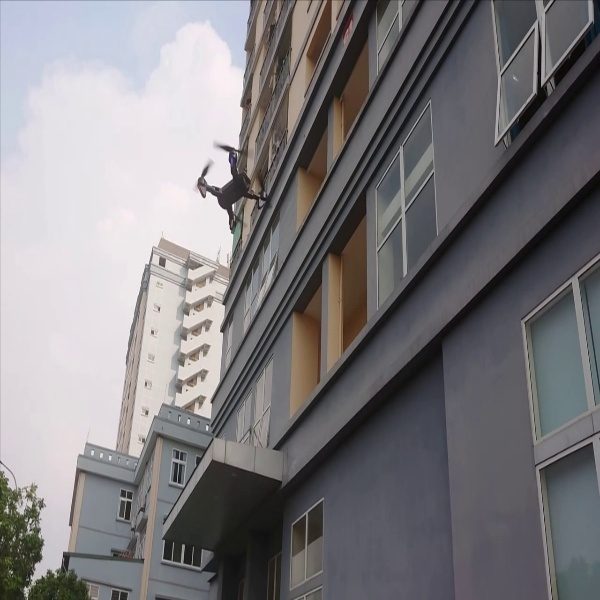drone: (193, 135, 275, 232)
